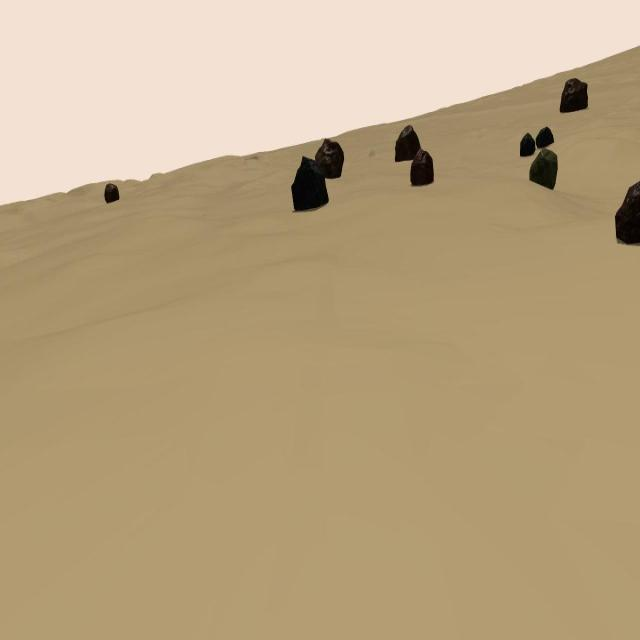rock: (292, 155, 330, 212), (614, 181, 640, 245), (316, 137, 344, 179), (530, 148, 558, 190), (395, 126, 421, 161), (560, 80, 588, 112), (411, 150, 434, 187), (536, 125, 554, 148), (521, 133, 535, 156), (105, 182, 119, 202)
